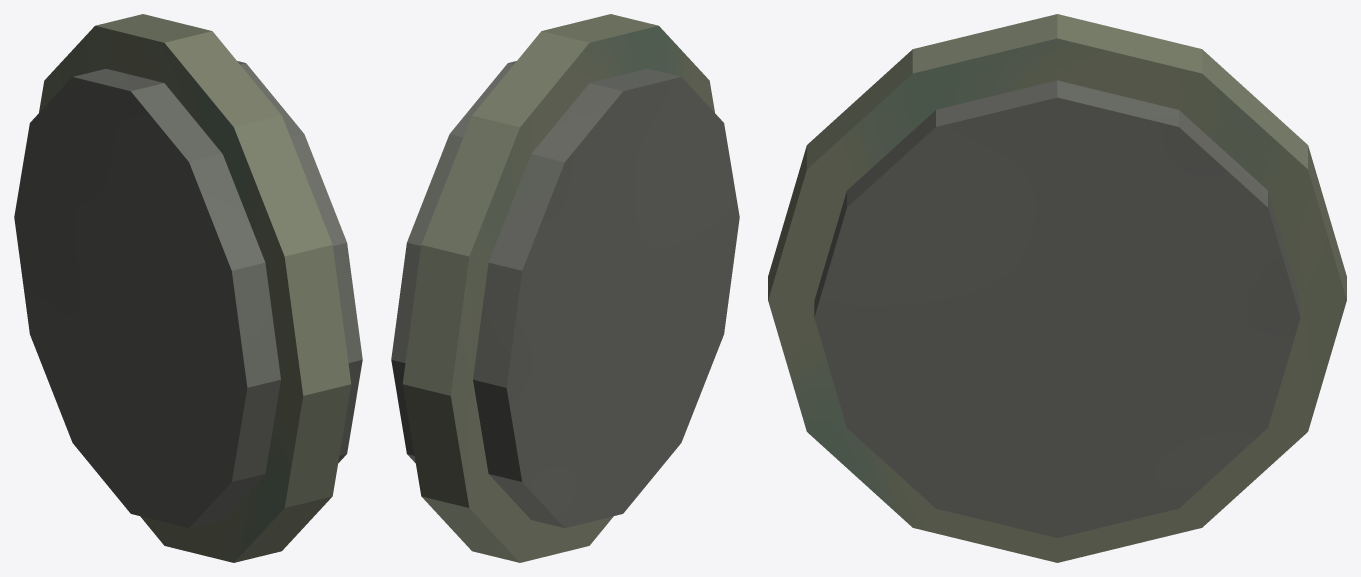
The model's file is WarrensC_PWC09_PipeEndCap_Mars_SM.fbx.
The picture shows the model from 3 angles, left to right: view 1: azimuth 30°, elevation 25°; view 2: azimuth 150°, elevation 25°; view 3: azimuth 270°, elevation 25°; orthographic projection. The views are drawn at different scales.
Visible parts, largest first — view 1: WarrensC_PWC09_PipeEndCap_Mars_SM.001; view 2: WarrensC_PWC09_PipeEndCap_Mars_SM.001; view 3: WarrensC_PWC09_PipeEndCap_Mars_SM.001.
Boxes of the visible parts, x1,y1,x2,y2 form: WarrensC_PWC09_PipeEndCap_Mars_SM.001: (14, 14, 362, 562); WarrensC_PWC09_PipeEndCap_Mars_SM.001: (391, 14, 739, 562); WarrensC_PWC09_PipeEndCap_Mars_SM.001: (768, 14, 1346, 562).
Bounding box in the file's own units: 12 × 50 × 50.
